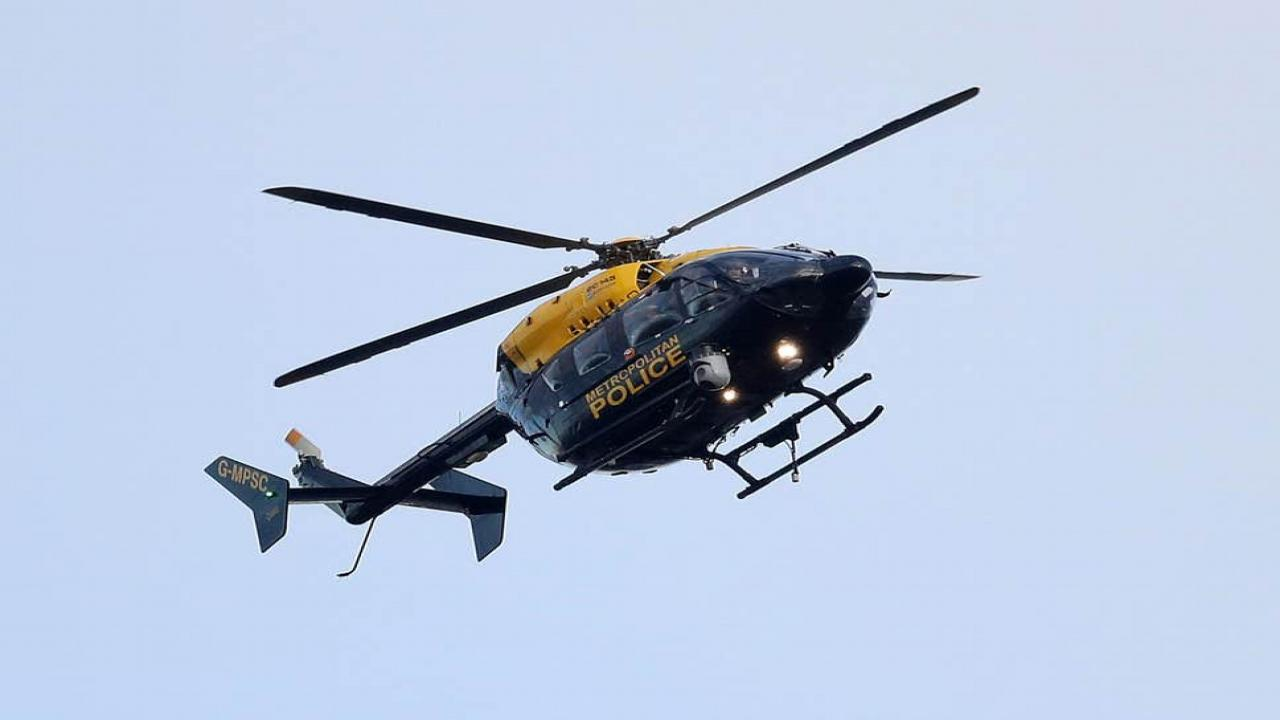Helicopter: (161, 63, 1039, 606)
